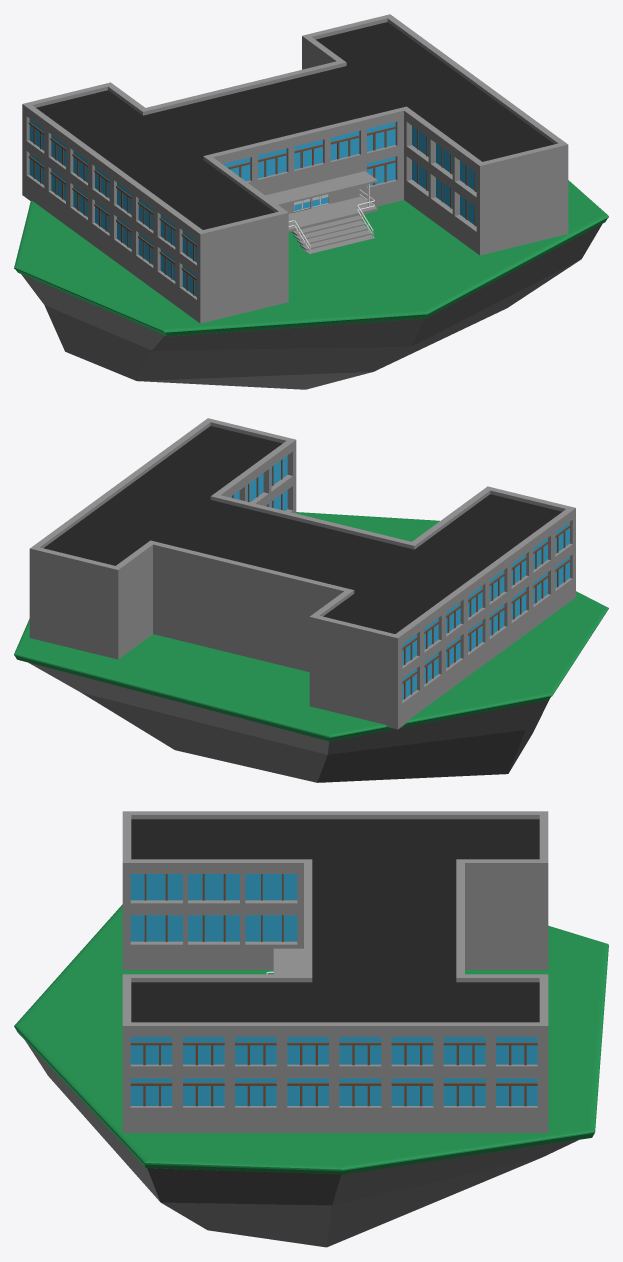
File: soviet_school.glb
3 renders of one model, top to bottom at view 1: azimuth 30°, elevation 25°; view 2: azimuth 150°, elevation 25°; view 3: azimuth 270°, elevation 25°, orthographic. The views are drawn at different scales.
Parts seen in each view (by area): view 1: здание, трава?, камень(большой), лестница, Cube.007, крыша?, Cube.001, Cube.009; view 2: здание, трава?, камень(большой), Cube.007; view 3: здание, трава?, камень(большой), Cube.007, Cube.009, крыша?.
Boxes of the visible parts, box(x1,y1,x2,y2) form: здание: box(22, 14, 568, 323); трава?: box(14, 180, 608, 336); камень(большой): box(21, 224, 602, 389); лестница: box(288, 196, 377, 253); Cube.007: box(28, 122, 196, 295); крыша?: box(265, 171, 377, 205); Cube.001: box(227, 126, 395, 177); Cube.009: box(417, 130, 475, 226); здание: box(29, 418, 575, 729); трава?: box(14, 512, 608, 741); камень(большой): box(29, 663, 549, 782); Cube.007: box(402, 525, 570, 699); здание: box(122, 811, 548, 1132); трава?: box(14, 904, 608, 1174); камень(большой): box(25, 1041, 578, 1247); Cube.007: box(130, 1042, 537, 1106); Cube.009: box(144, 874, 283, 941); крыша?: box(273, 948, 303, 974).
Bounding box in the file's own units: 12.64 × 5.78 × 10.67.
